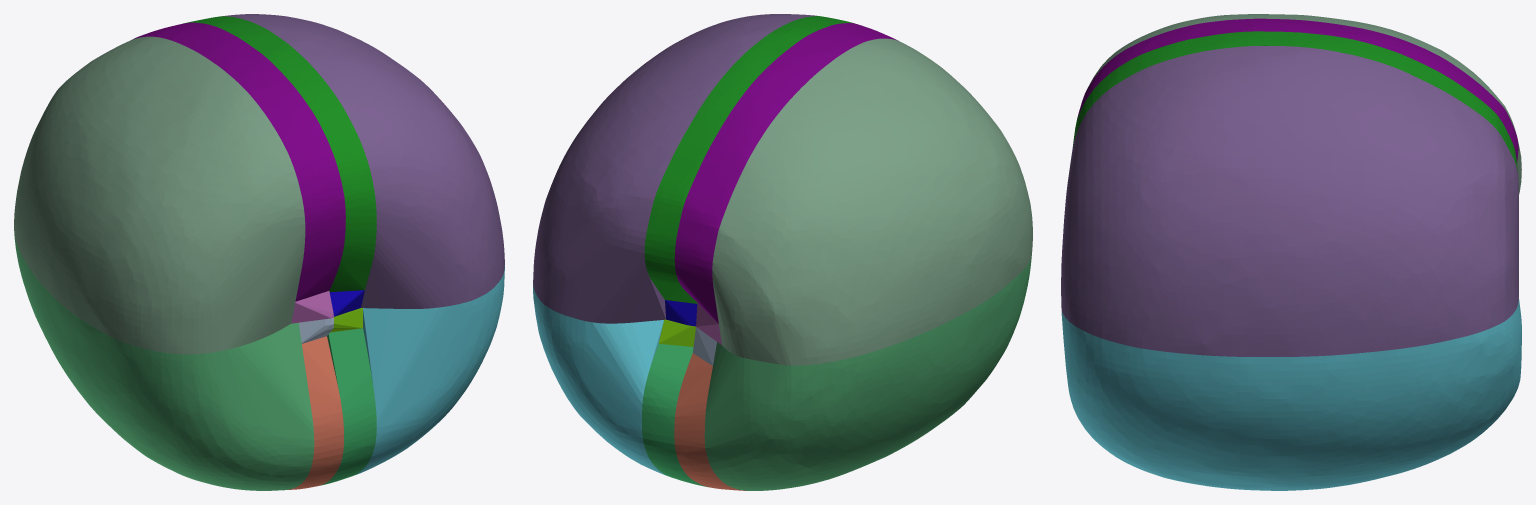
The model's file is coacd_merge.obj.
3 views of the same model, side by side, from view 1: azimuth 30°, elevation 25°; view 2: azimuth 150°, elevation 25°; view 3: azimuth 270°, elevation 25° (orthographic). The views are drawn at different scales.
Visible parts, largest first — view 1: geometry_0, geometry_1, geometry_3, geometry_2, geometry_11, geometry_8, geometry_10, geometry_9, geometry_7, geometry_5, geometry_6, geometry_4; view 2: geometry_0, geometry_3, geometry_1, geometry_11, geometry_2, geometry_8, geometry_10, geometry_9, geometry_4, geometry_5, geometry_6, geometry_7; view 3: geometry_1, geometry_2, geometry_8, geometry_11, geometry_0.
Part boxes in pixels (x1,y1,x2,y2): geometry_0: (14, 36, 305, 354); geometry_1: (222, 14, 504, 308); geometry_3: (14, 233, 314, 490); geometry_2: (356, 265, 504, 474); geometry_11: (133, 22, 345, 301); geometry_8: (183, 16, 376, 292); geometry_10: (319, 328, 376, 485); geometry_9: (288, 336, 343, 489); geometry_7: (291, 291, 333, 323); geometry_5: (329, 290, 364, 316); geometry_6: (298, 317, 333, 343); geometry_4: (330, 308, 362, 332); geometry_0: (712, 38, 1032, 365); geometry_3: (704, 254, 1031, 490); geometry_1: (533, 14, 819, 323); geometry_11: (674, 23, 898, 323); geometry_2: (533, 284, 668, 476); geometry_8: (644, 16, 853, 303); geometry_10: (642, 343, 708, 487); geometry_9: (674, 353, 746, 490); geometry_4: (658, 319, 695, 346); geometry_5: (665, 300, 697, 326); geometry_6: (693, 327, 716, 365); geometry_7: (696, 303, 721, 344); geometry_1: (1061, 45, 1518, 356); geometry_2: (1061, 298, 1521, 490); geometry_8: (1073, 31, 1517, 171); geometry_11: (1077, 18, 1518, 162); geometry_0: (1082, 14, 1521, 194).
Bounding box in the file's own units: 0.0767 × 0.0762 × 0.0732.
